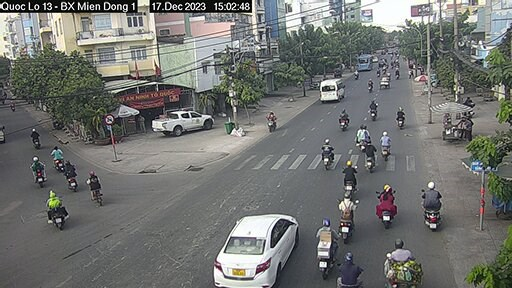car: (214, 193, 304, 288), (146, 109, 228, 147), (312, 74, 342, 108)
motorbike: (376, 239, 414, 280), (371, 182, 401, 233), (37, 186, 73, 228), (415, 183, 444, 229), (331, 190, 358, 239), (333, 159, 360, 204), (318, 216, 338, 272), (319, 137, 340, 184)
